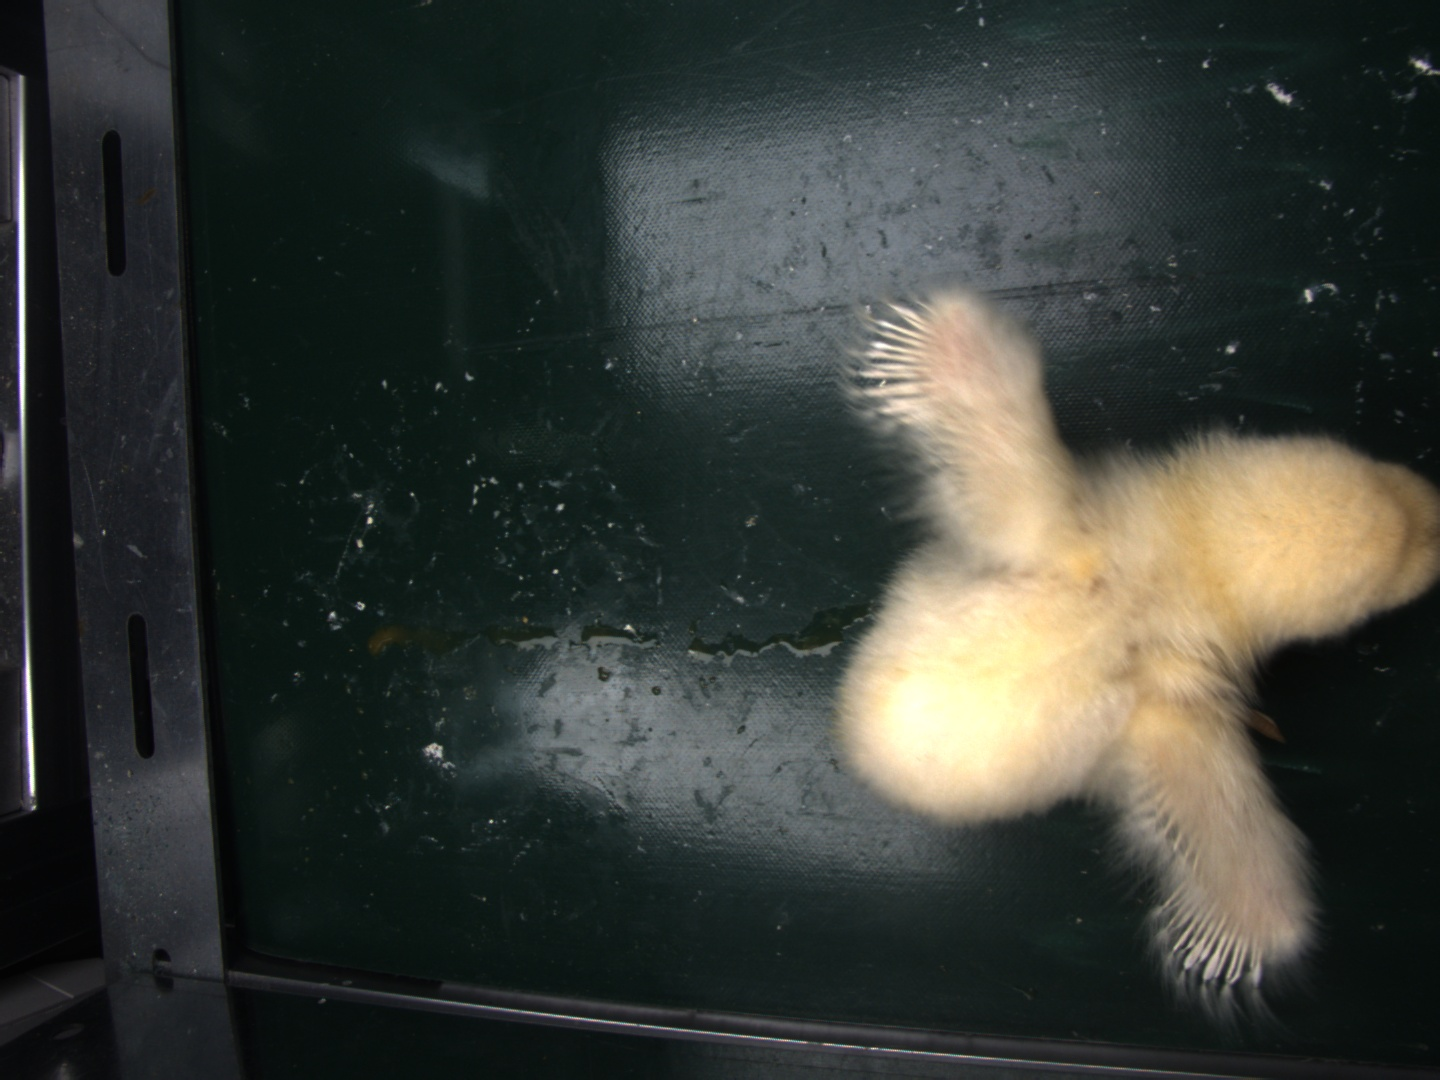male: (1163, 889, 1257, 992), (855, 305, 940, 416)
